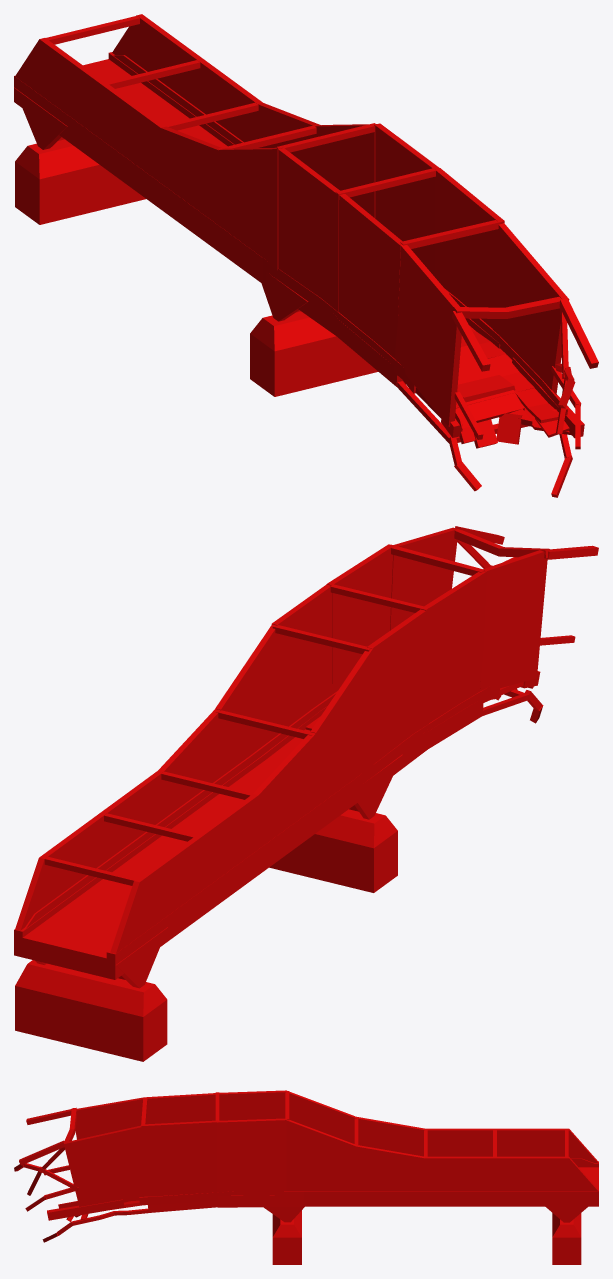
File: SM_Env_Bridge_01_Collision.fbx
The picture shows the model from 3 angles, top to bottom: view 1: azimuth 30°, elevation 25°; view 2: azimuth 150°, elevation 25°; view 3: azimuth 270°, elevation 25°; orthographic projection. The views are drawn at different scales.
Visible parts, largest first — view 1: SM_Env_Bridge_01_Collision; view 2: SM_Env_Bridge_01_Collision; view 3: SM_Env_Bridge_01_Collision.
Part boxes in pixels (<box>): SM_Env_Bridge_01_Collision: <box>14,14,598,497</box>; SM_Env_Bridge_01_Collision: <box>14,526,598,1061</box>; SM_Env_Bridge_01_Collision: <box>14,1090,598,1264</box>.
Size of the model in its own units: 2592 by 4485 by 16890.
